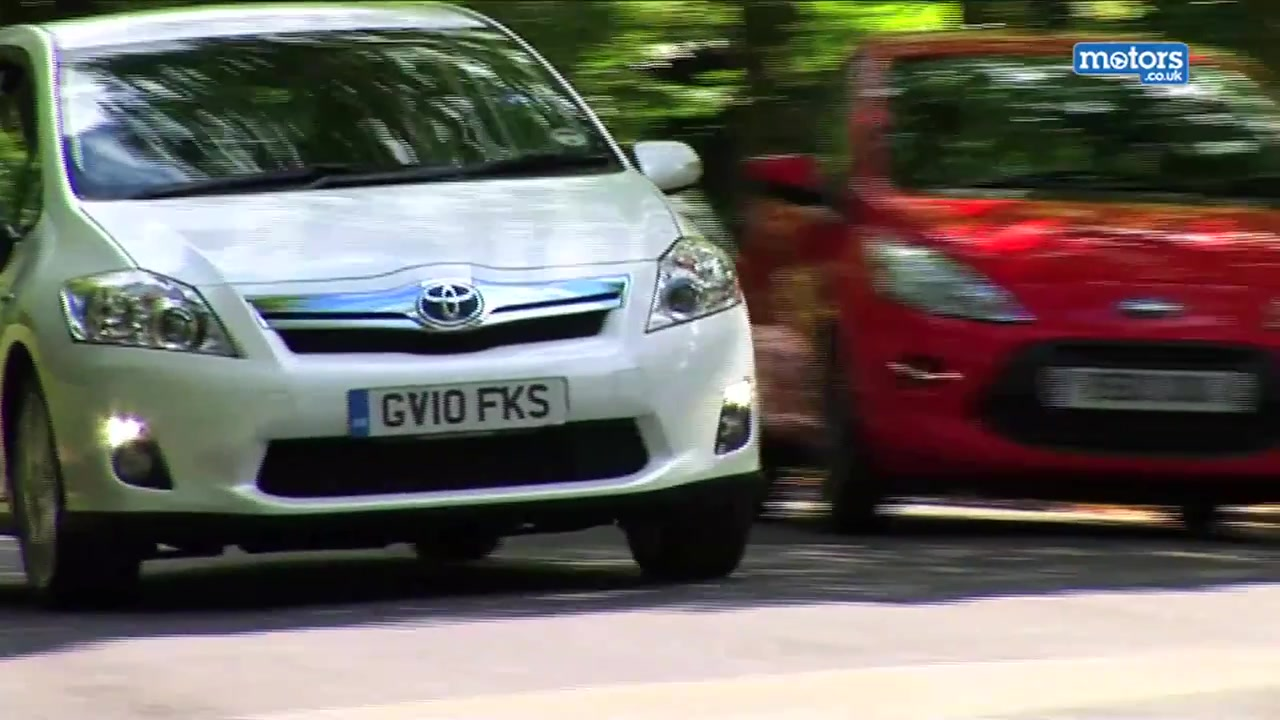car: (1, 3, 766, 599), (735, 24, 1280, 544)
